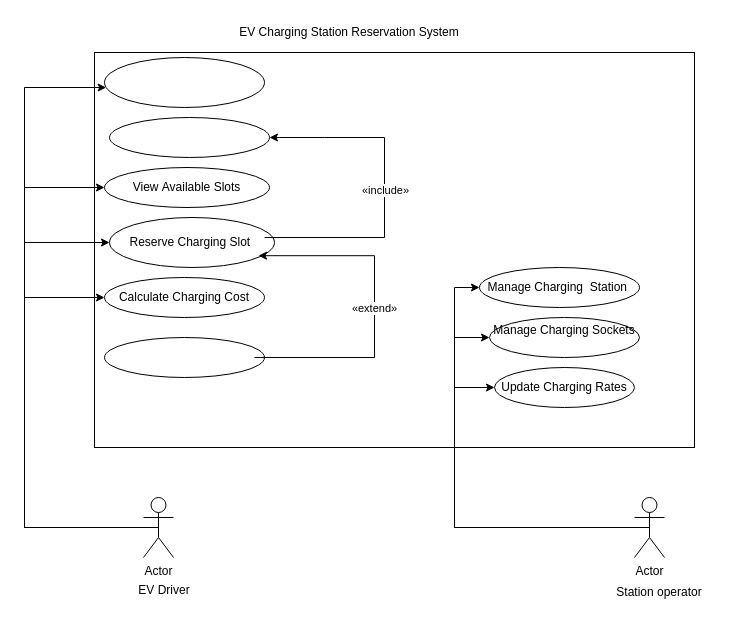
This 732x644 diagram has some shape labels left out. Here are the shapes that lost their labels. From the top down, the centre of each, then its label:
the point at 184,82: Search Nearby Charging Stations
the point at 189,137: Match Connector Type
the point at 184,357: Apply No-Show Penalty
